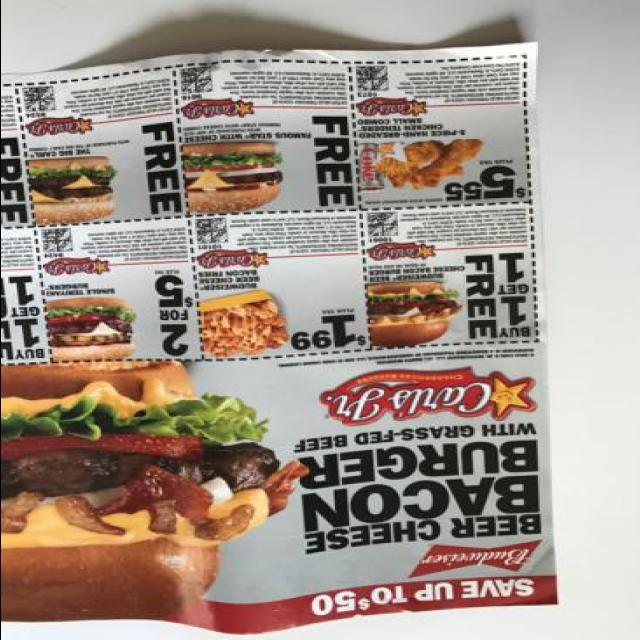kertas: (0, 37, 560, 640)
